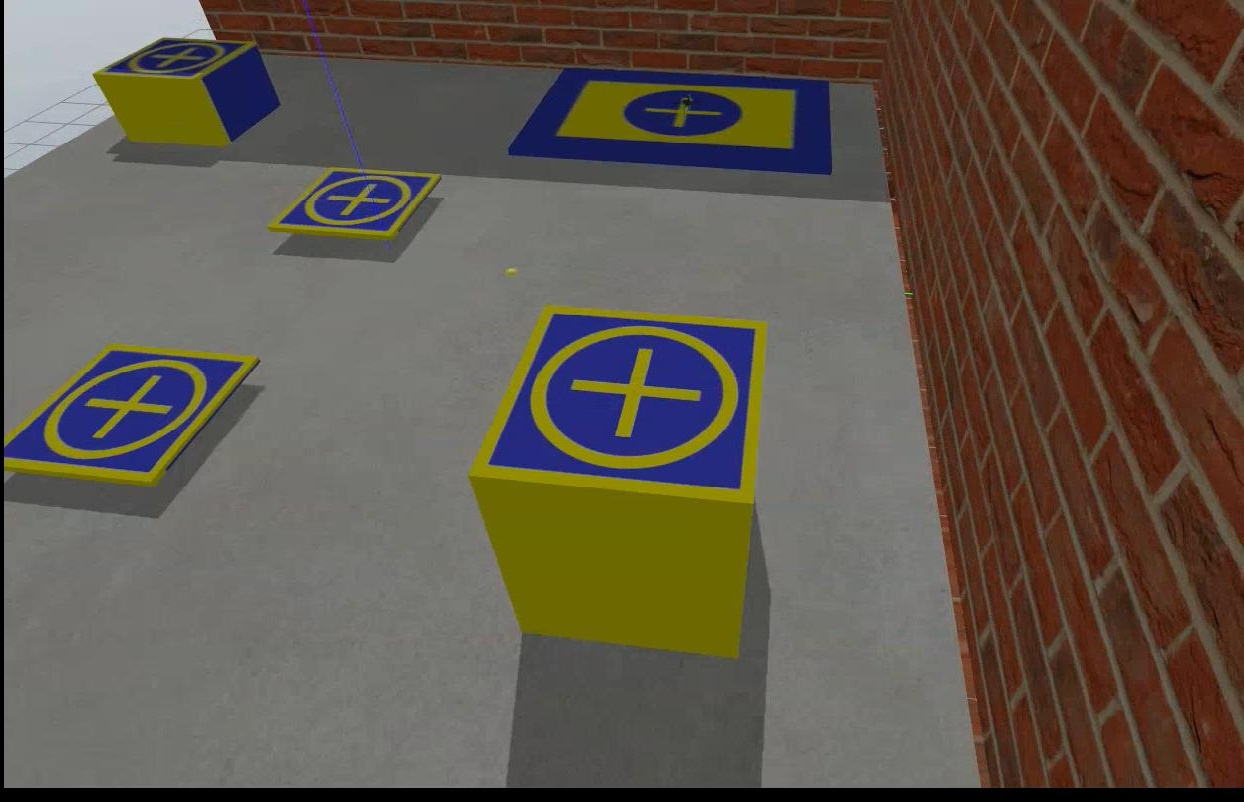large_base: (505, 69, 831, 166)
small_base: (474, 304, 764, 509), (0, 338, 257, 487), (265, 164, 438, 247), (94, 41, 251, 85)
